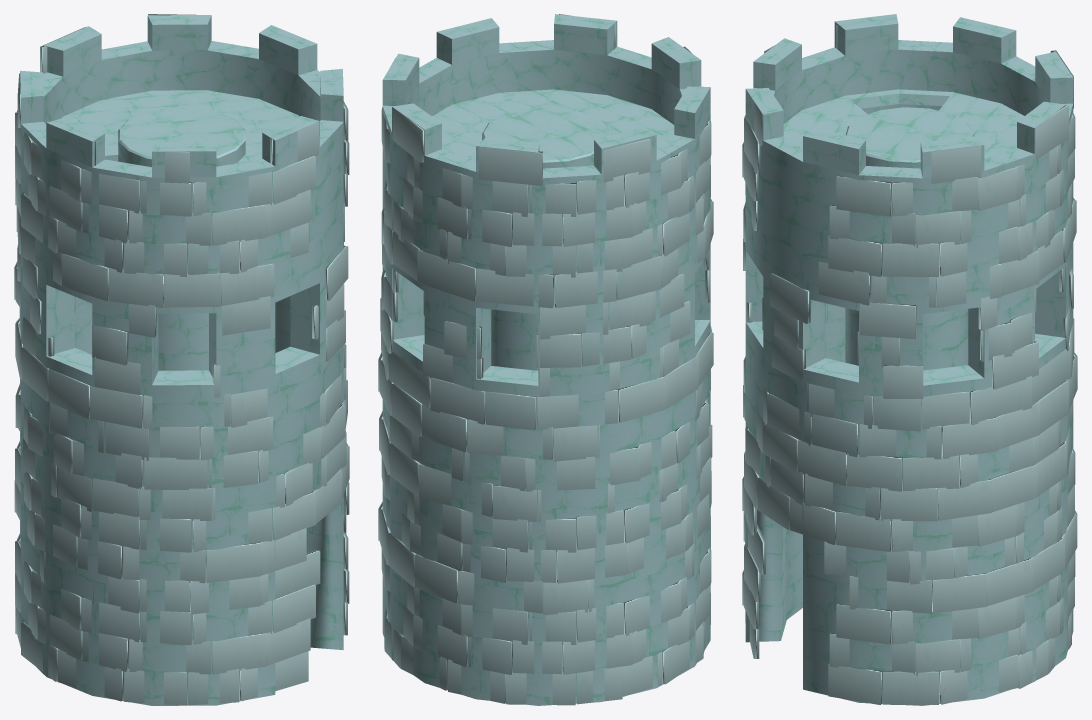
The model's file is test_field_winter_tower.fbx.
3 views of the same model, side by side, from view 1: azimuth 30°, elevation 25°; view 2: azimuth 150°, elevation 25°; view 3: azimuth 270°, elevation 25° (orthographic).
Visible parts, largest first — view 1: pCylinder816, field_winter_tower26; view 2: field_winter_tower26, pCylinder816; view 3: field_winter_tower26, pCylinder816.
Part boxes in pixels (x1,y1,x2,y2): pCylinder816: (20, 15, 343, 705); field_winter_tower26: (14, 14, 349, 705); field_winter_tower26: (378, 14, 713, 705); pCylinder816: (382, 14, 710, 705); field_winter_tower26: (742, 25, 1077, 704); pCylinder816: (745, 14, 1073, 705).
Bounding box in the file's own units: 499 × 911 × 500.
2 materials, 2 textured.
